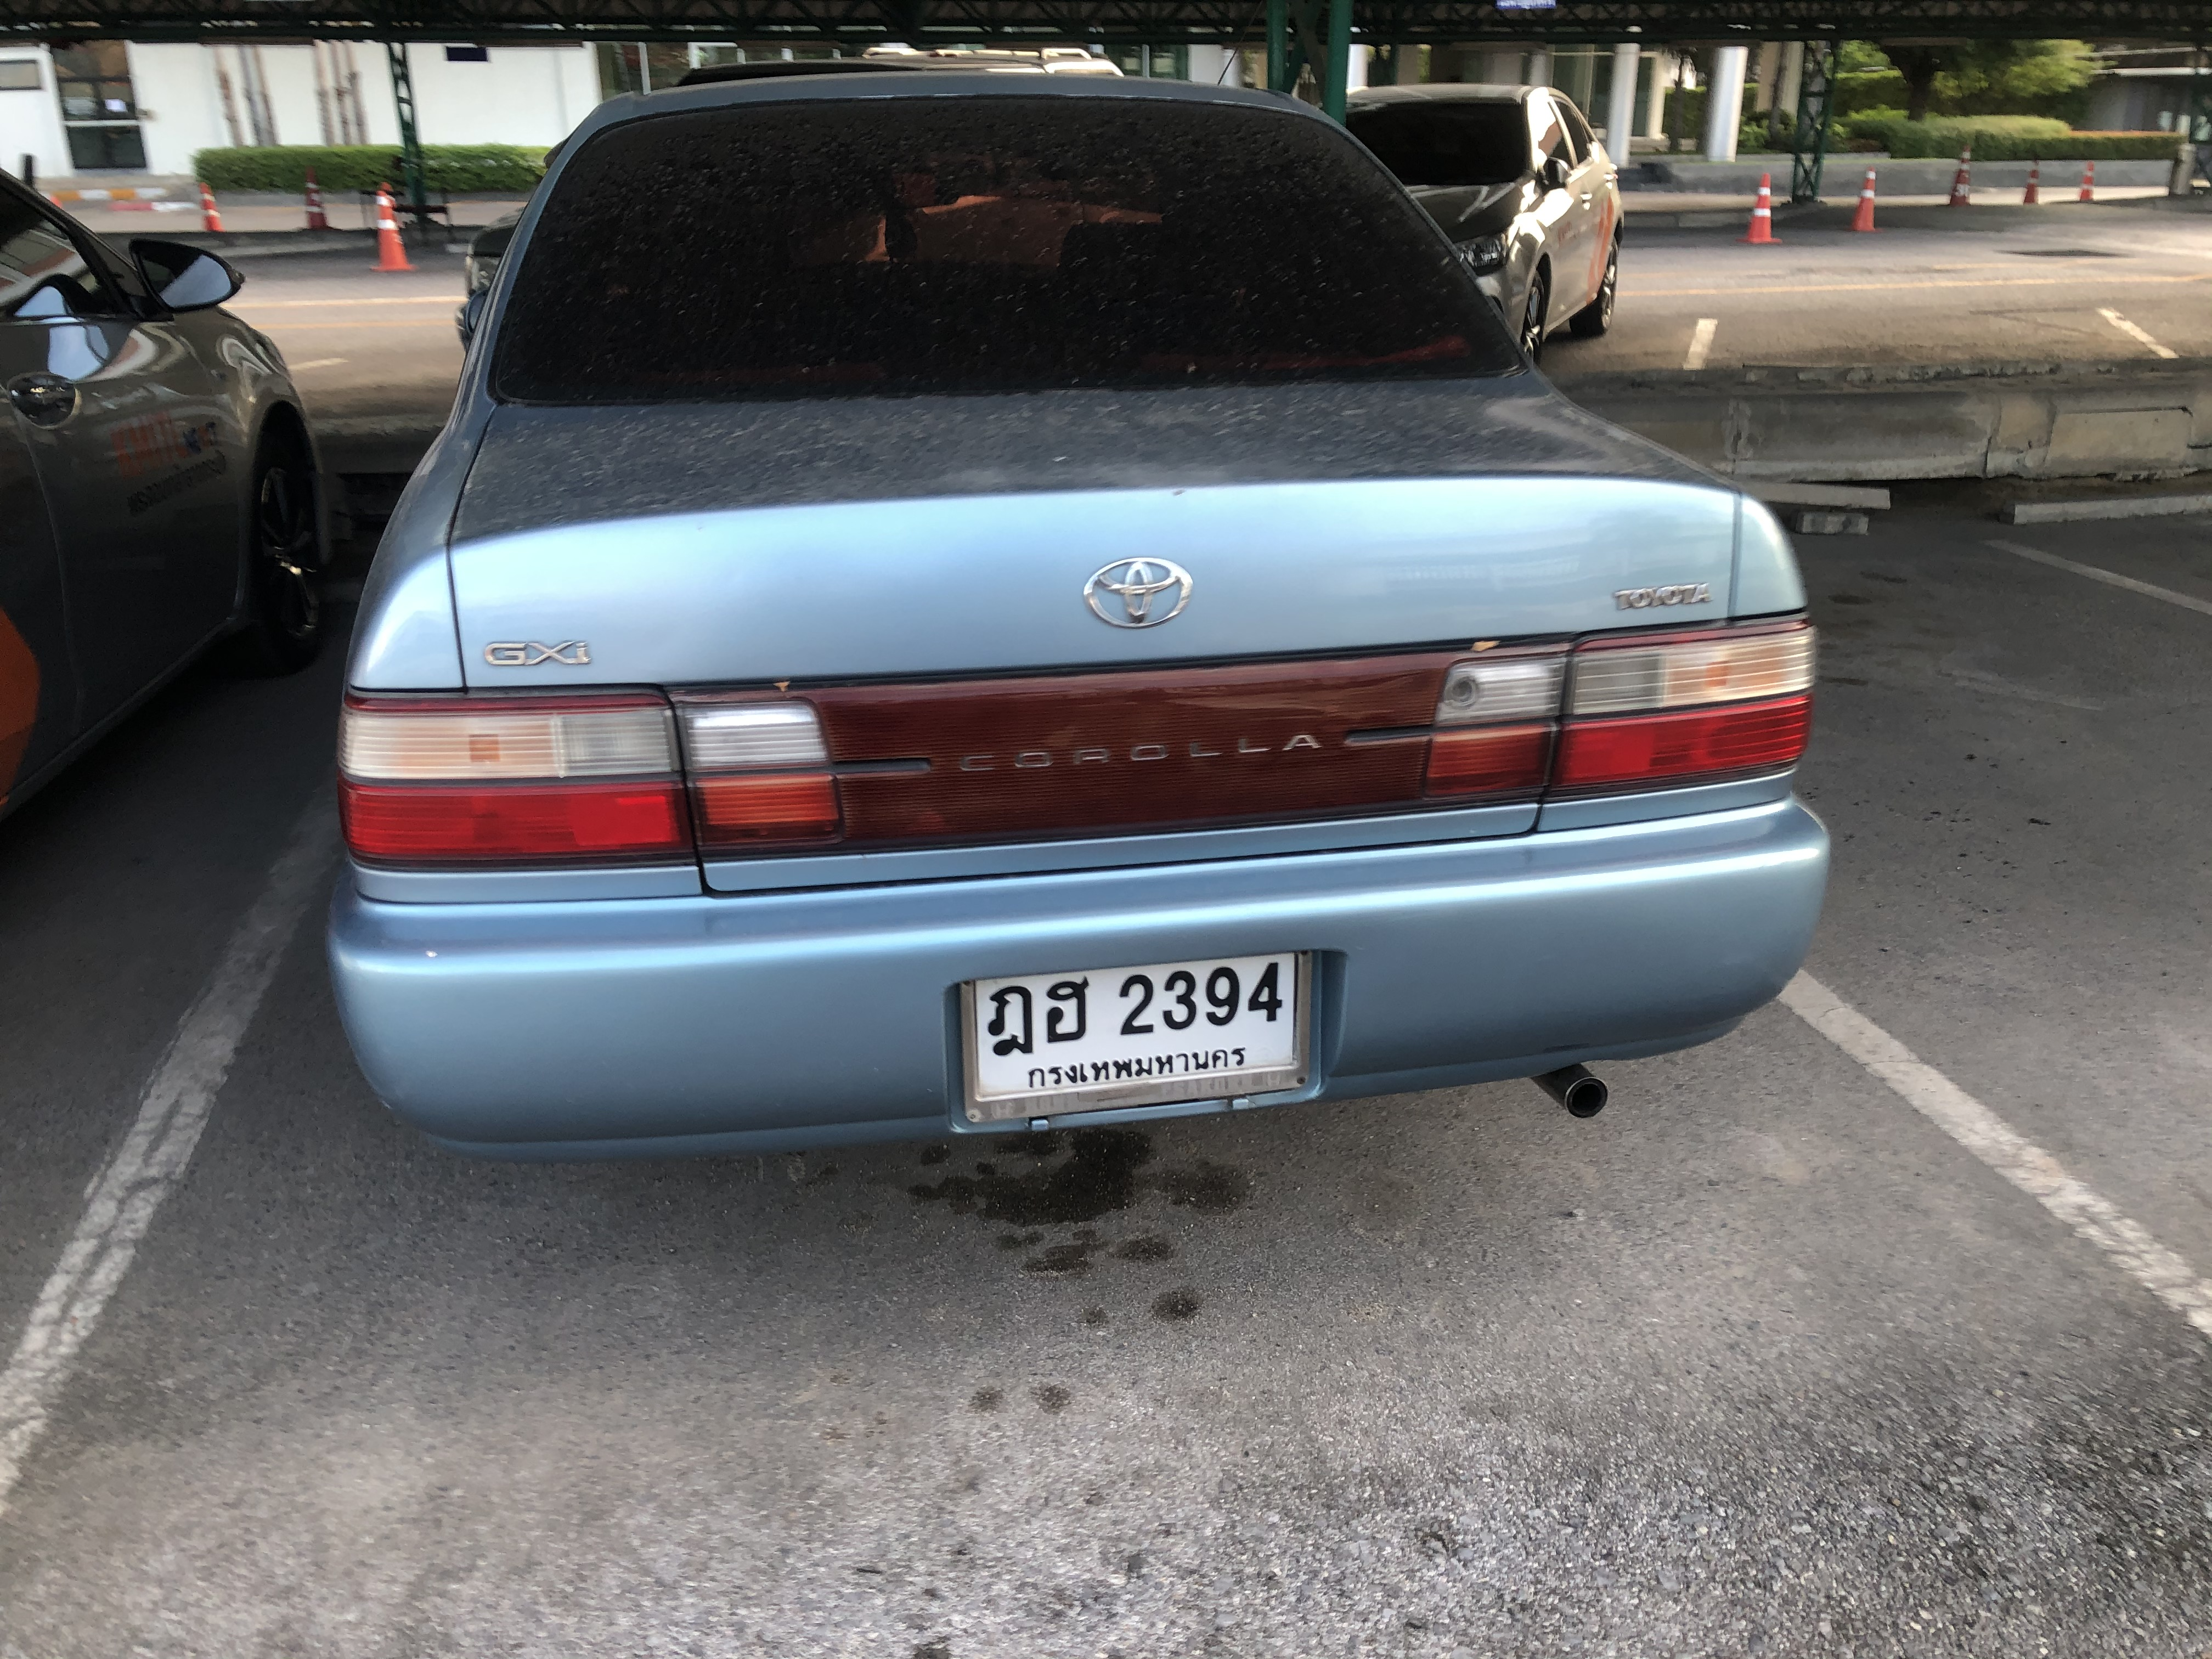in: (979, 962, 1294, 1091)
out: (954, 945, 1324, 1115)
